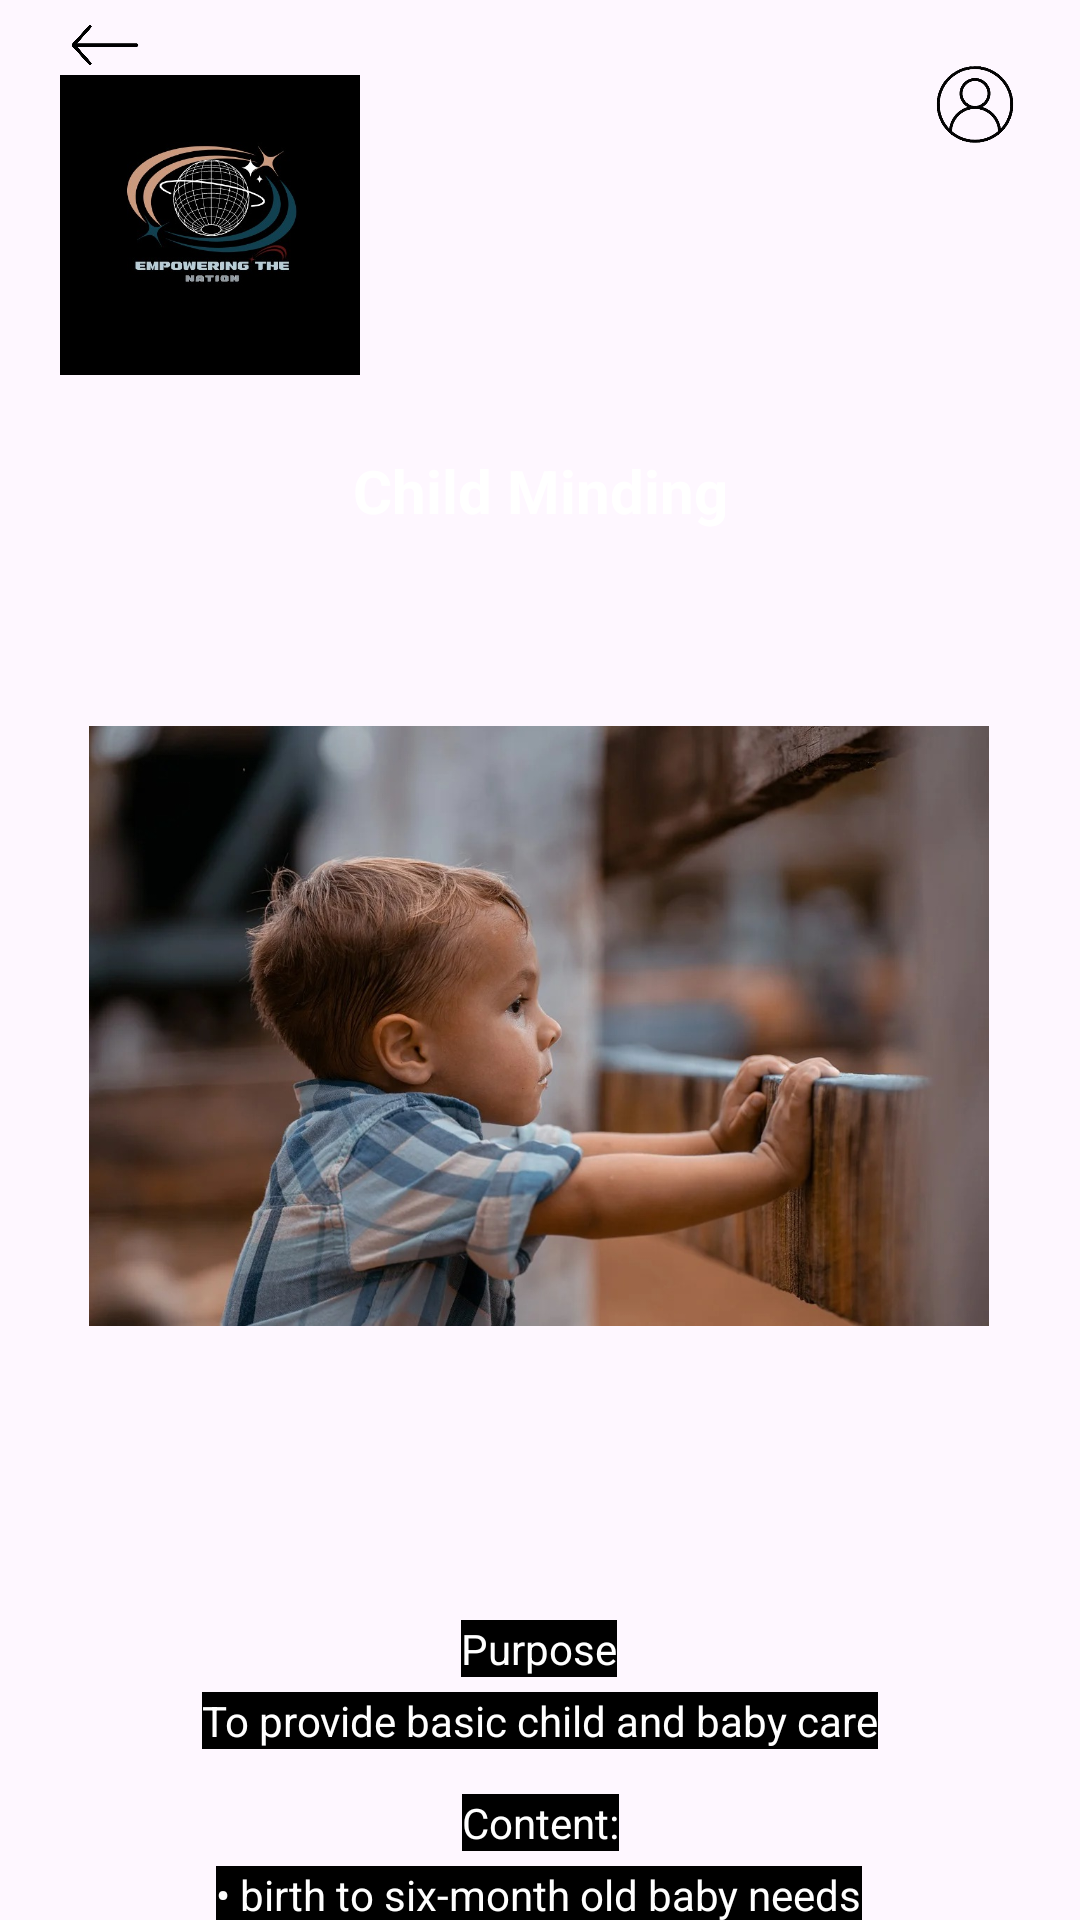

Where icons sit on this 1080px×1920px app screen, as [x1,y1,x2,y2]:
back: [72,25,138,65]
